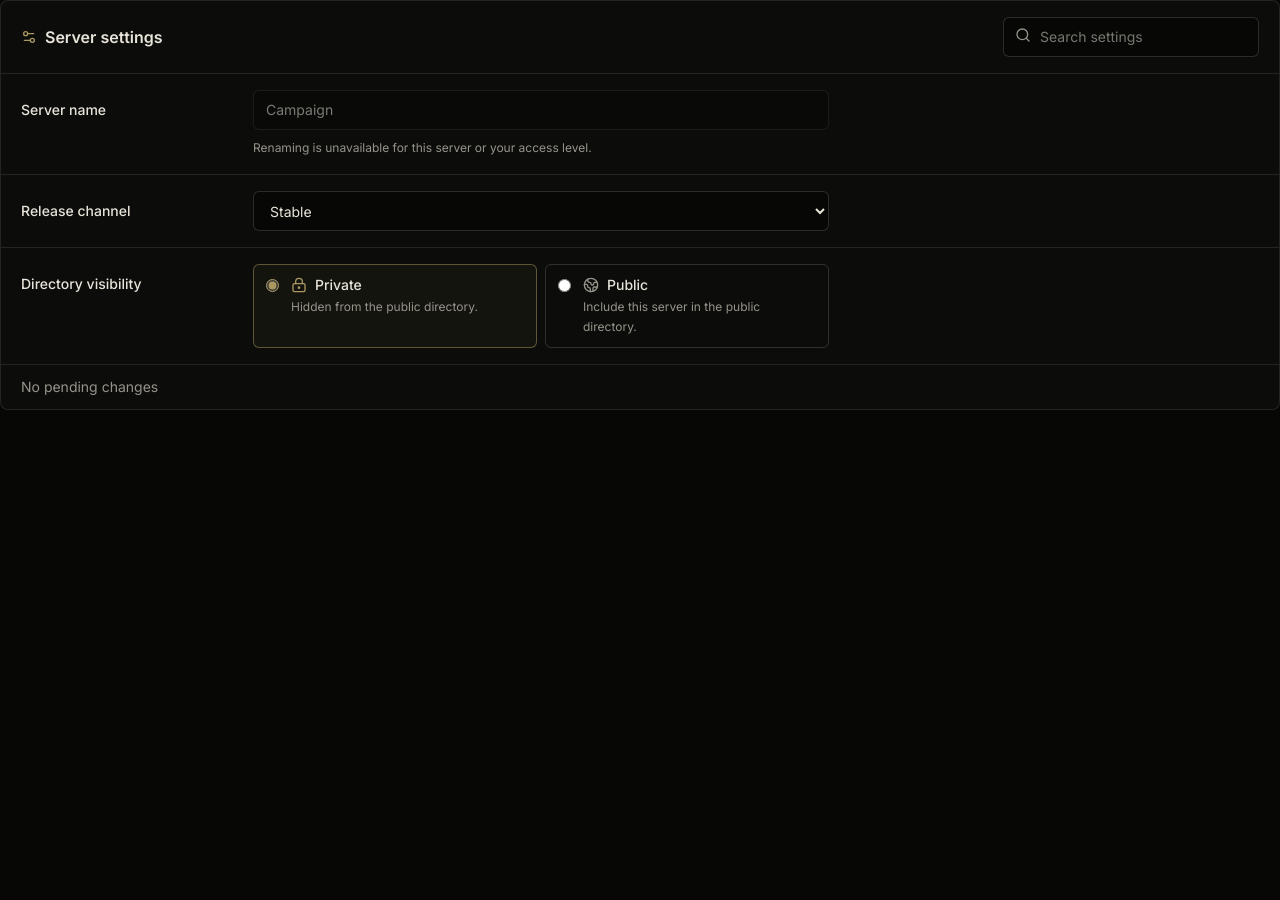
Test: carries visibility's new generation into a combined channel save
Click the radio button labelled "Public Include this server in the public directory." at (564, 286), box 558,279 -> 571,292
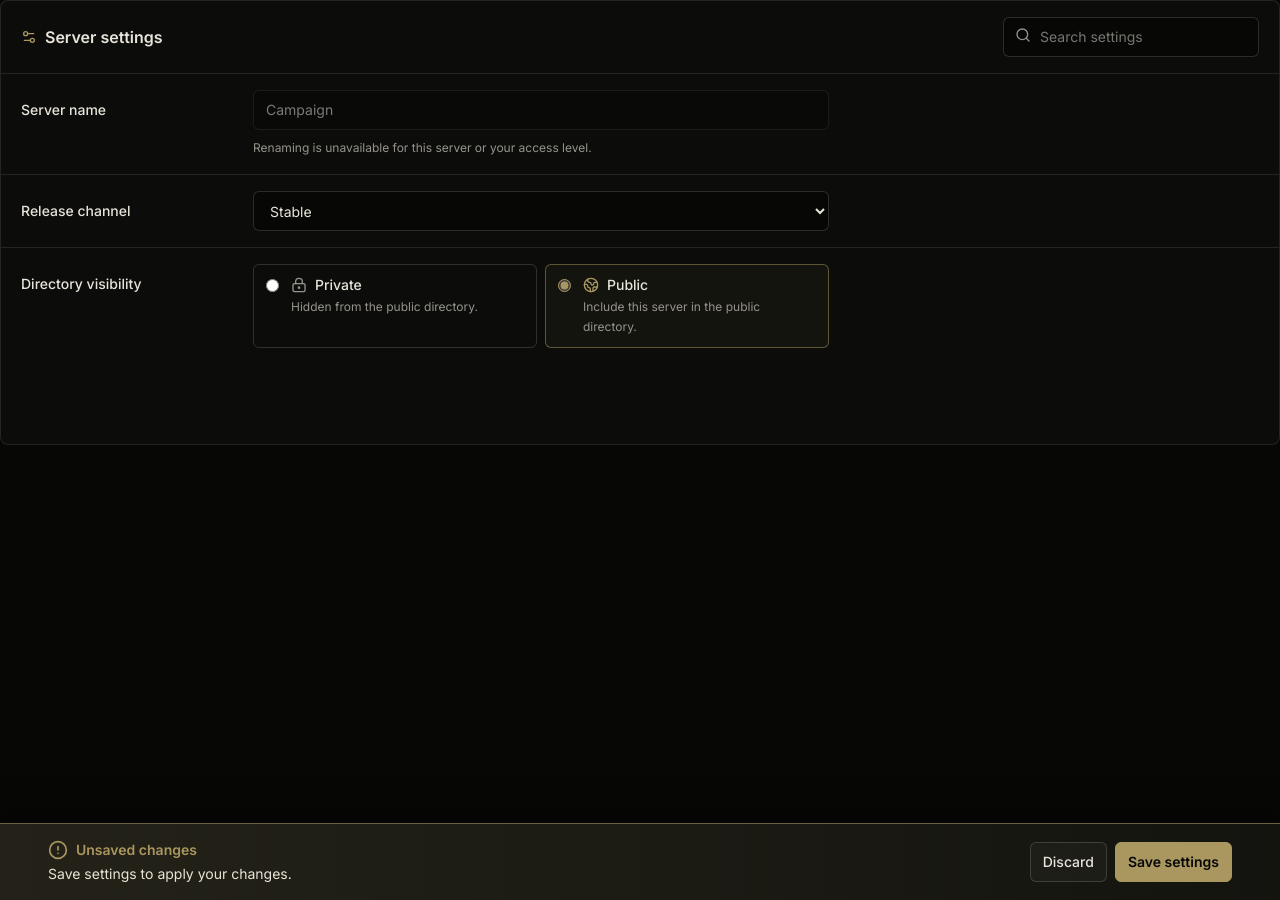
Select "Nightly" in the dropdown labelled "Release channel" at (541, 211), box 253,191 -> 829,231
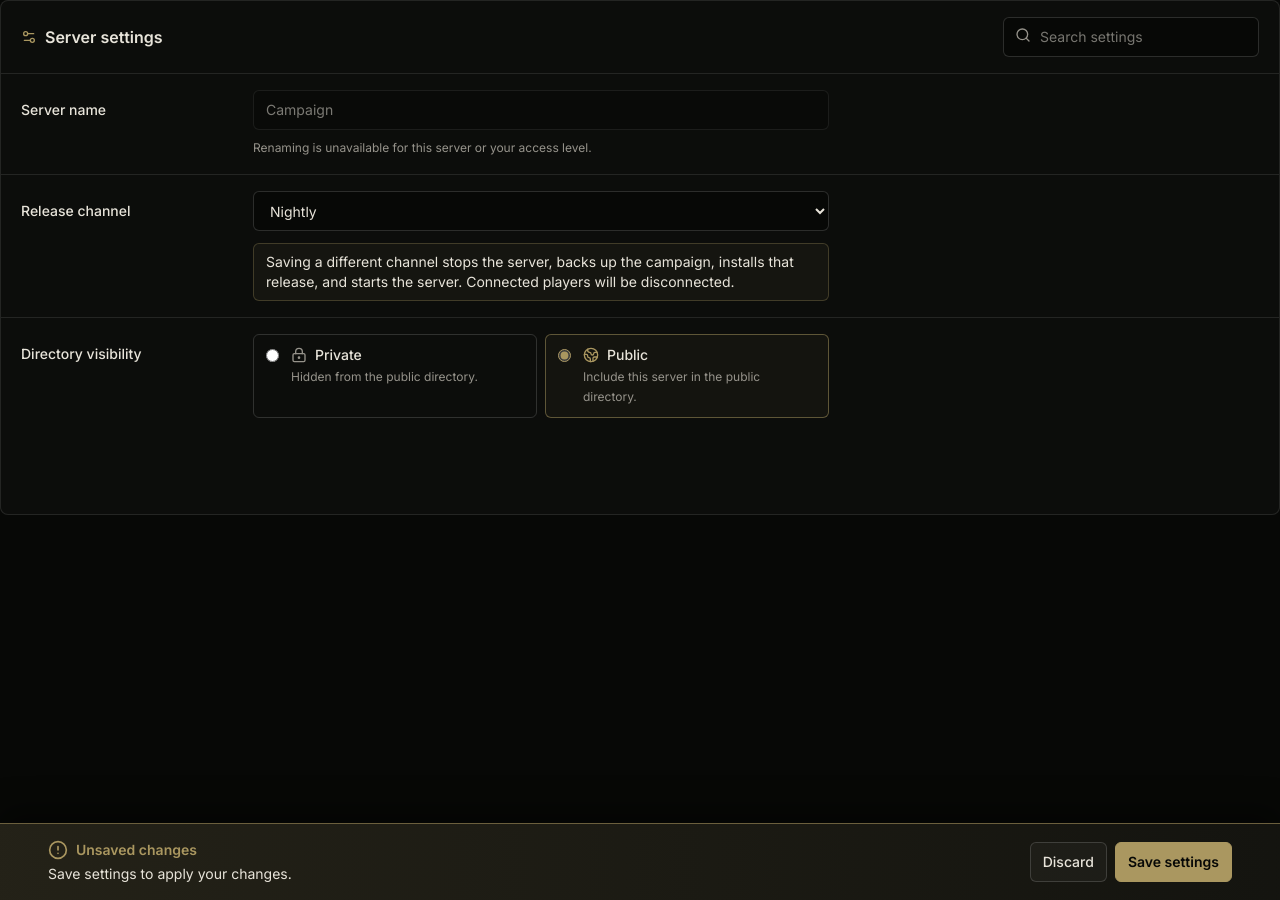
Click the button "Save settings" at (1173, 862), box 1115,842 -> 1232,882
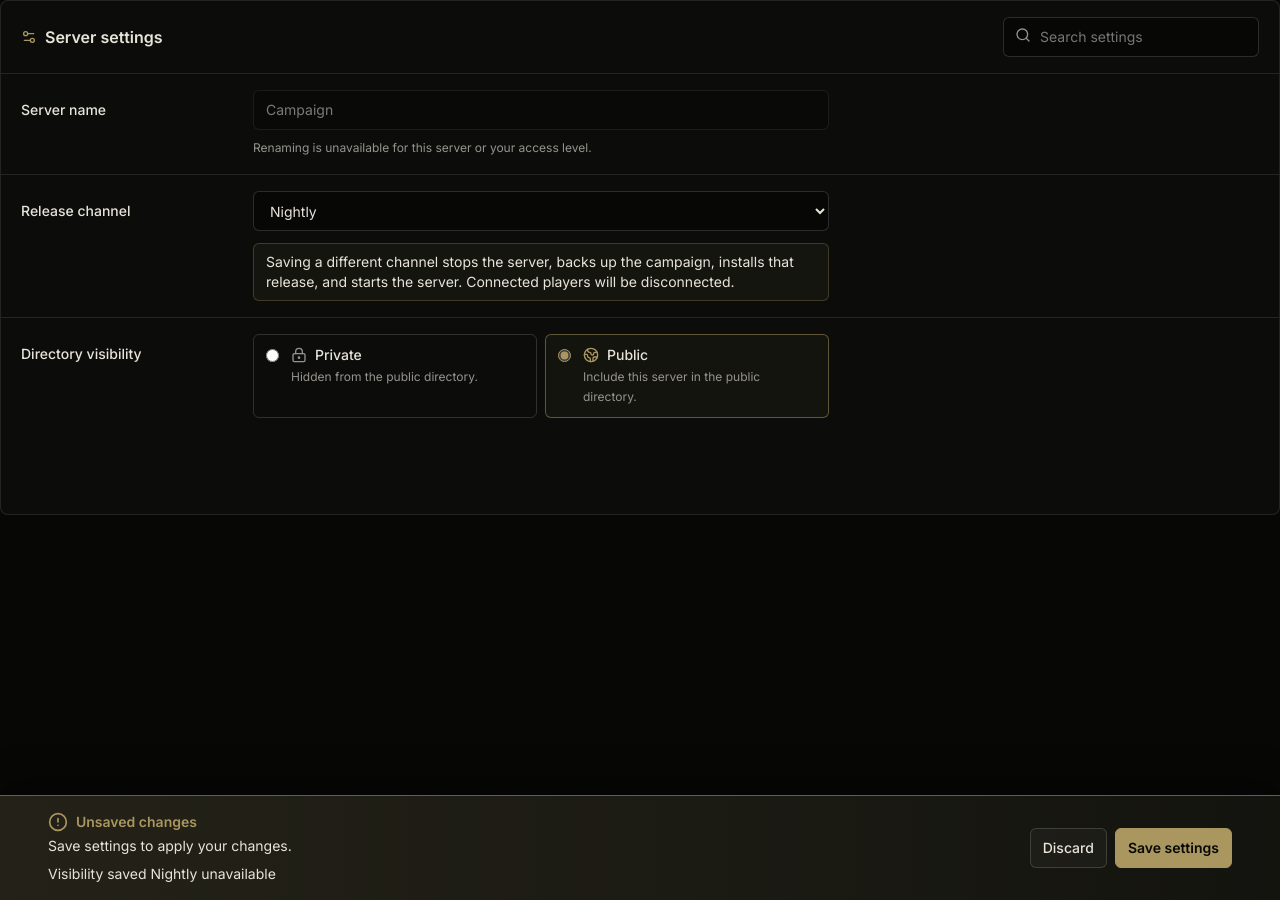
Expected: the text "Visibility saved Nightly unavailable" is shown, 48,865 -> 276,882
